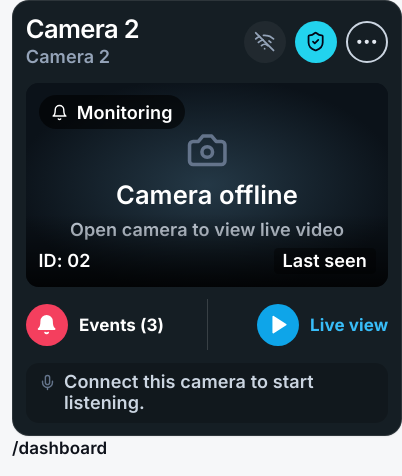
camera alerts and event history › opens camera history from a dashboard card with connected=true
Click the button "Events (3)": (116, 325) x1=26 y1=299 x2=207 y2=350
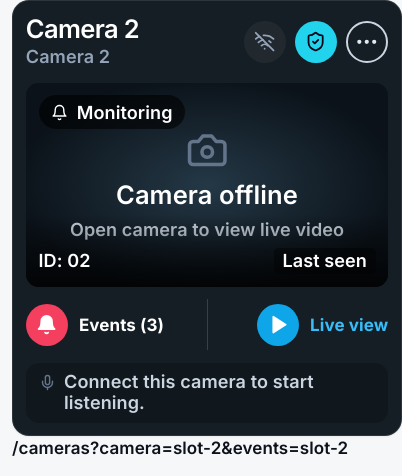
Result: the text with test id "location" reads "/cameras?camera=slot-2&events=slot-2" at x1=12 y1=439 x2=348 y2=459
